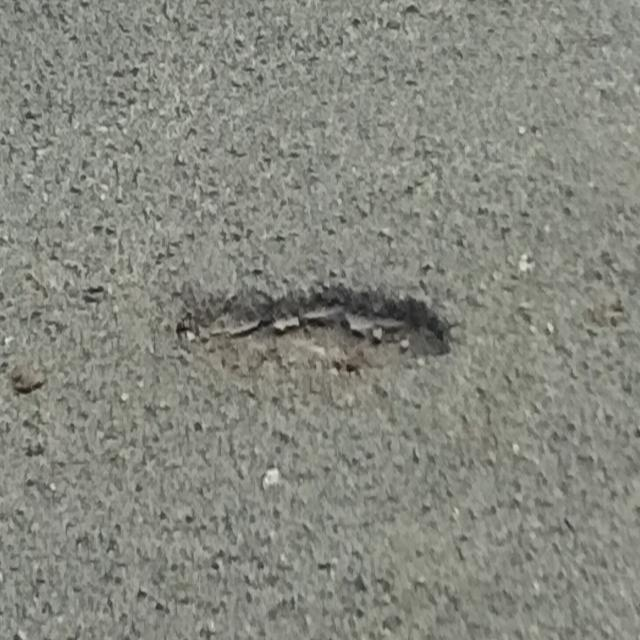pothole: (100, 221, 462, 428)
